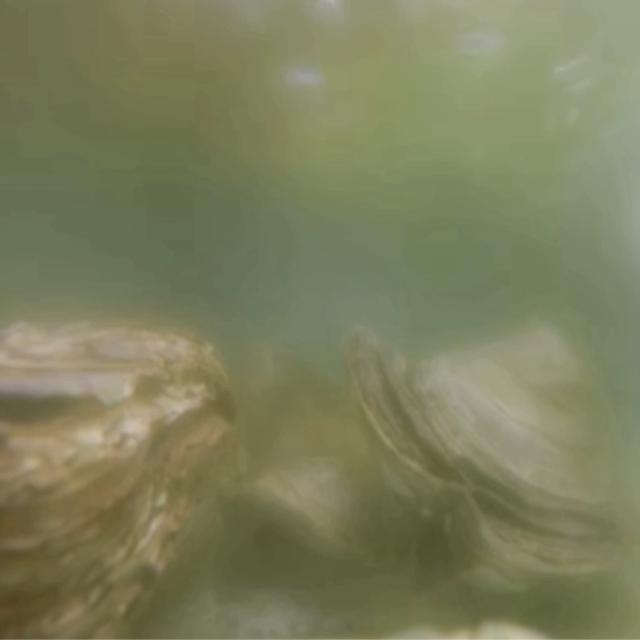Oyster-Closed: (340, 320, 640, 602), (0, 318, 255, 640)
Oyster-Indeterminate: (232, 412, 392, 566)
